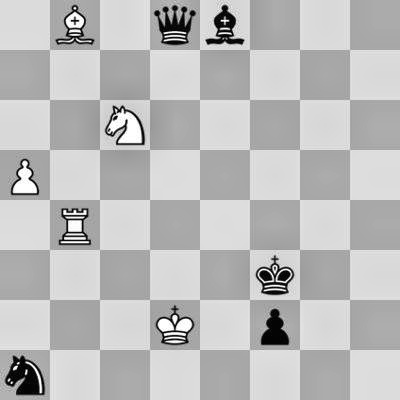black-bishop: (200, 0, 250, 50)
black-king: (250, 250, 300, 300)
black-knight: (0, 350, 50, 400)
black-pawn: (250, 300, 300, 350)
black-queen: (150, 0, 200, 50)
white-bishop: (50, 0, 100, 50)
white-king: (150, 300, 200, 350)
white-knight: (100, 100, 150, 150)
white-pawn: (0, 150, 50, 200)
white-rook: (50, 200, 100, 250)
